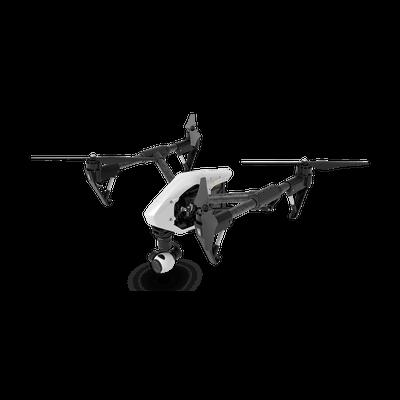drone: (32, 128, 380, 260)
